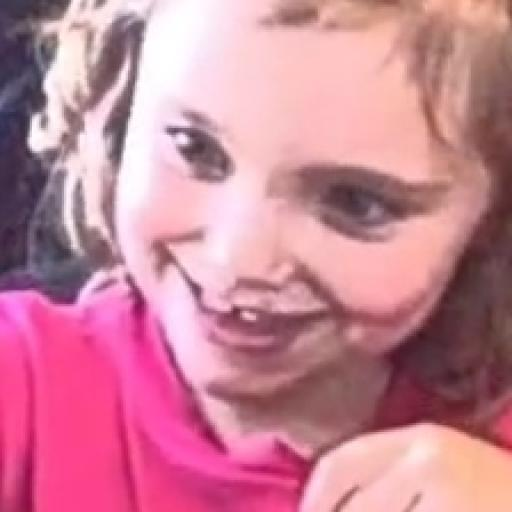Autism: (123, 30, 512, 505)
